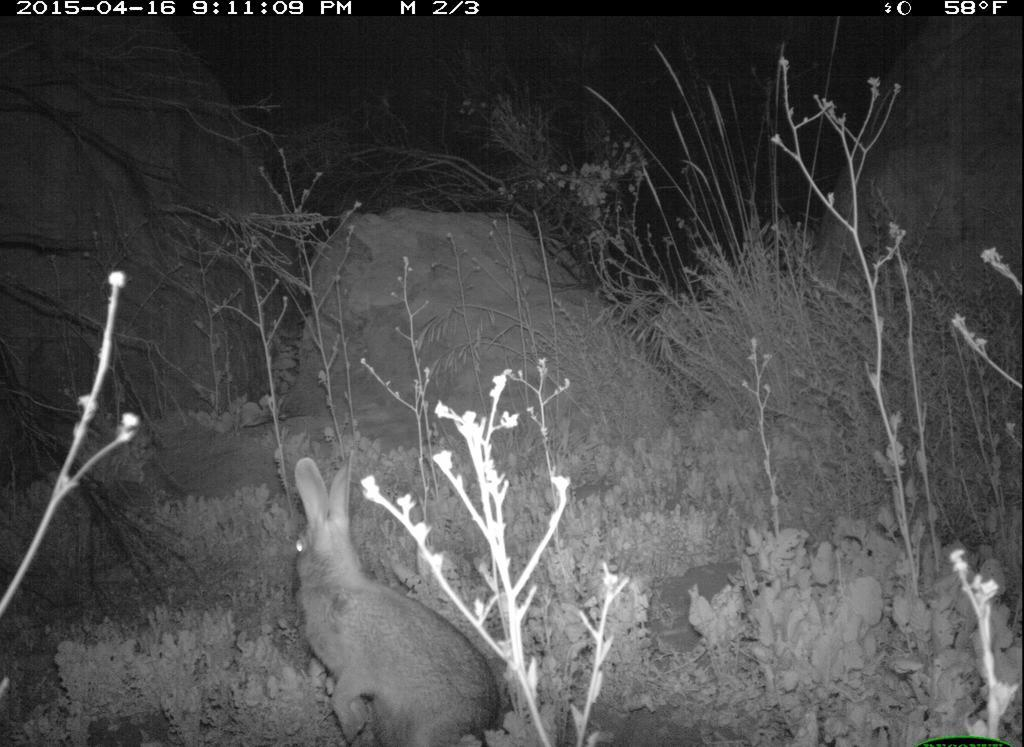rabbit: (272, 455, 527, 733)
